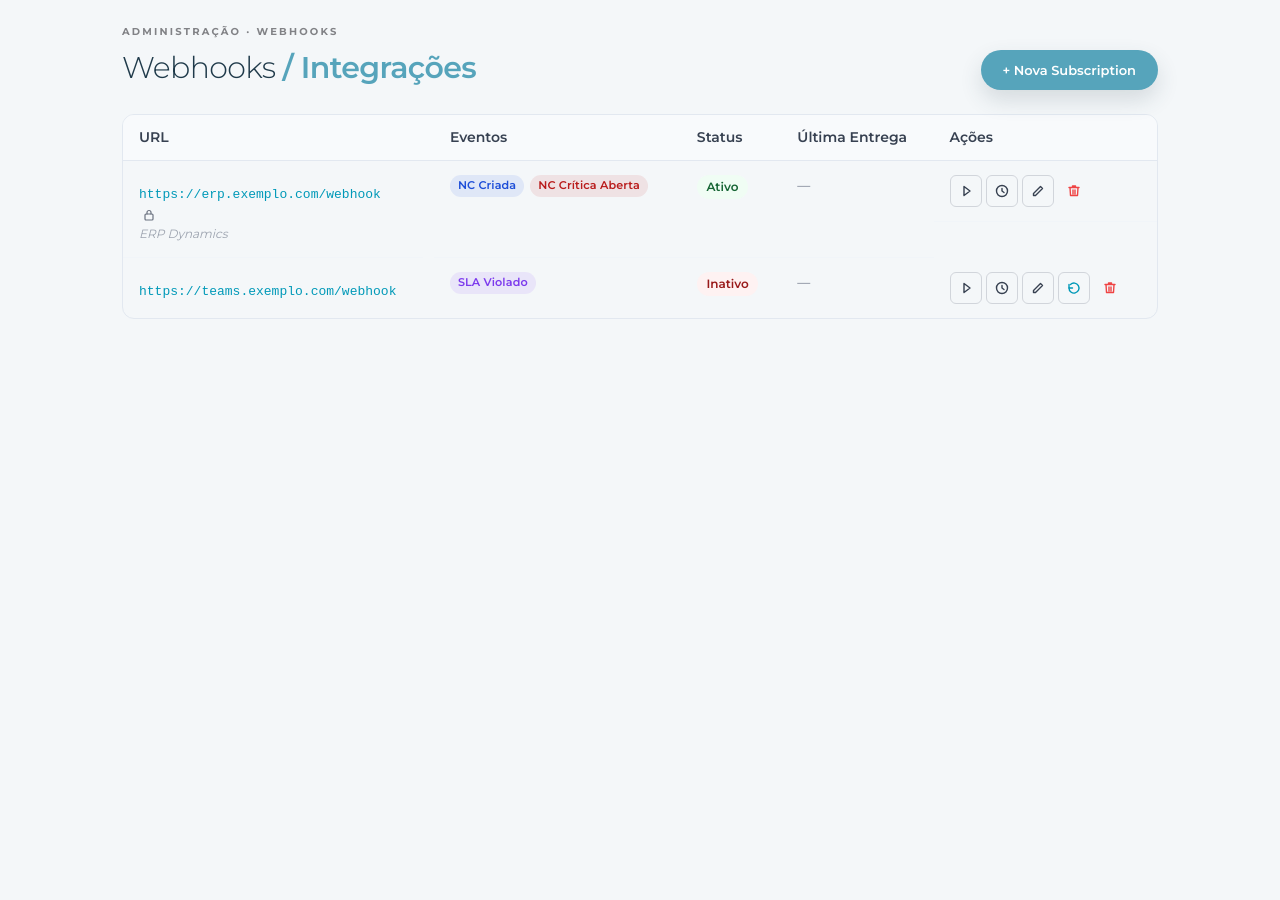
it: WebhooksComponent › Painel de entregas › should open deliveries panel when history button is clicked
Click the button named "Ver histórico de entregas" in the row of "https://erp.exemplo.com/webhook" at (1002, 191), box [986, 175, 1018, 207]
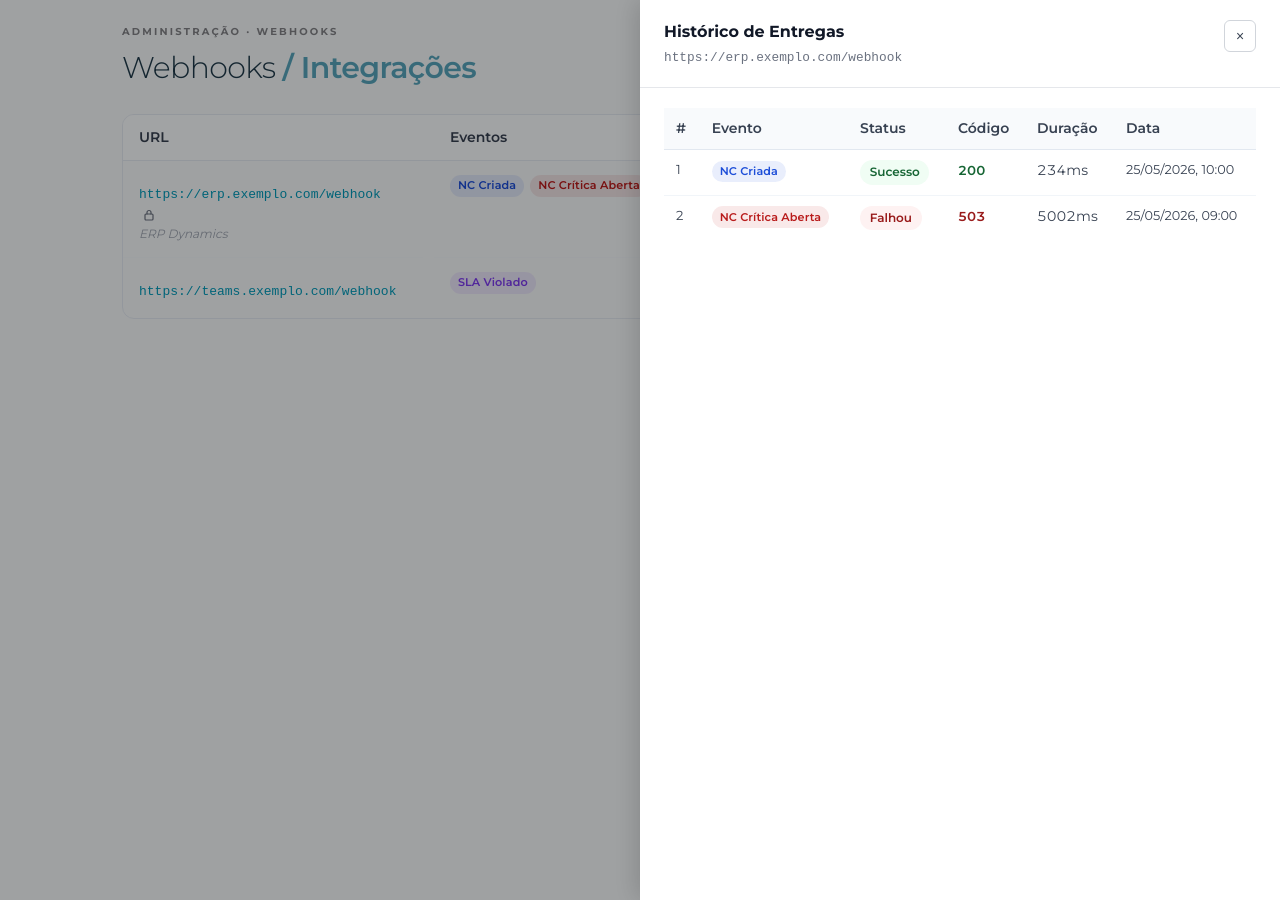
Expected: the element with test id "deliveries-panel" is shown, [640, 0, 1279, 899]
